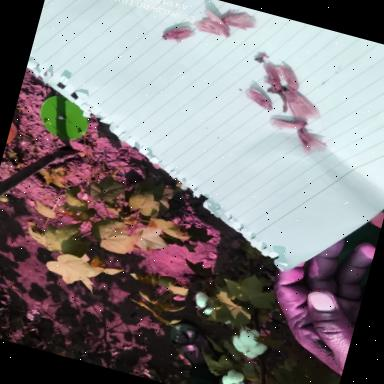abw: (192, 6, 234, 41), (268, 62, 308, 96), (292, 126, 332, 158), (254, 61, 288, 95), (159, 20, 196, 51), (268, 112, 308, 140), (240, 84, 277, 114), (220, 6, 258, 34)
